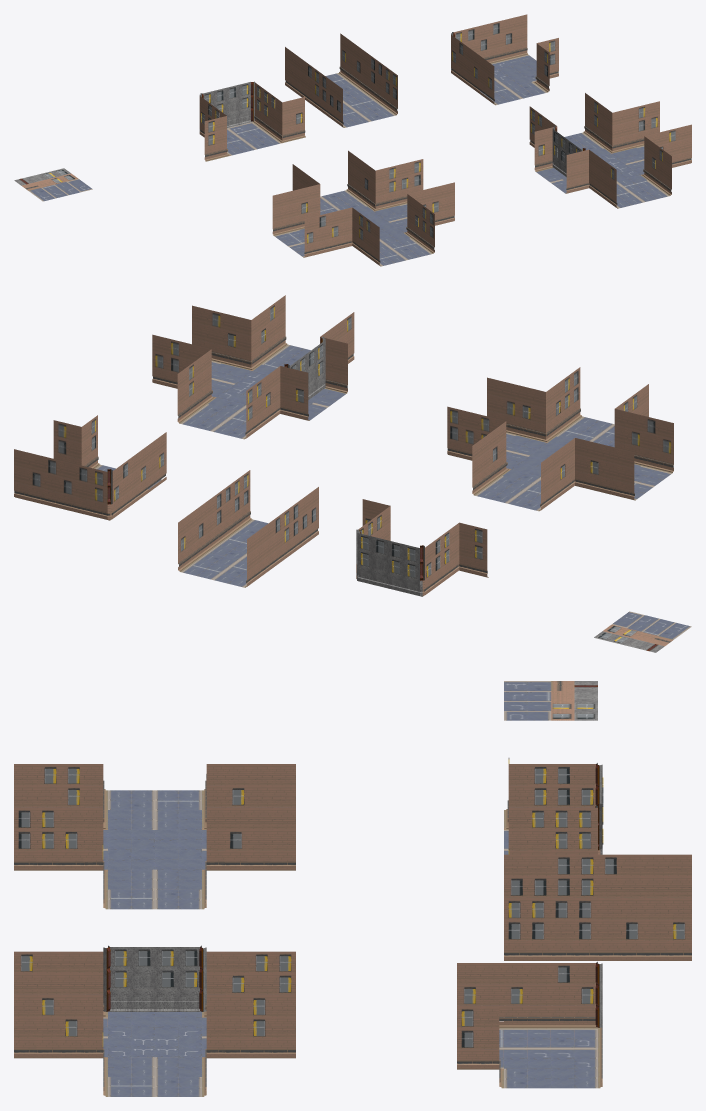
The model's file is StreetModules.fbx.
3 views of the same model, one above another, from view 1: azimuth 30°, elevation 25°; view 2: azimuth 150°, elevation 25°; view 3: azimuth 270°, elevation 25° (orthographic). The views are drawn at different scales.
Parts seen in each view (by area): view 1: Intersection, Fork, Turn, Hall, Alley, References; view 2: Intersection, Fork, Hall, Turn, Alley, References; view 3: Fork, Intersection, Hall, Turn, Alley, References.
Part boxes in pixels (x1=…): Intersection: x1=272, y1=150, x2=454, y2=266; Fork: x1=529, y1=93, x2=691, y2=208; Turn: x1=451, y1=14, x2=558, y2=105; Hall: x1=285, y1=33, x2=397, y2=127; Alley: x1=199, y1=81, x2=305, y2=161; References: x1=14, y1=168, x2=92, y2=201; Intersection: x1=447, y1=367, x2=673, y2=511; Fork: x1=152, y1=295, x2=354, y2=439; Hall: x1=178, y1=470, x2=318, y2=587; Turn: x1=14, y1=415, x2=166, y2=520; Alley: x1=356, y1=499, x2=488, y2=596; References: x1=594, y1=611, x2=691, y2=652; Fork: x1=14, y1=945, x2=295, y2=1096; Intersection: x1=14, y1=764, x2=295, y2=909; Hall: x1=504, y1=854, x2=691, y2=960; Turn: x1=457, y1=961, x2=602, y2=1088; Alley: x1=504, y1=758, x2=603, y2=854; References: x1=504, y1=681, x2=597, y2=720.
Bounding box in the file's own units: 4189 × 307 × 2886.
